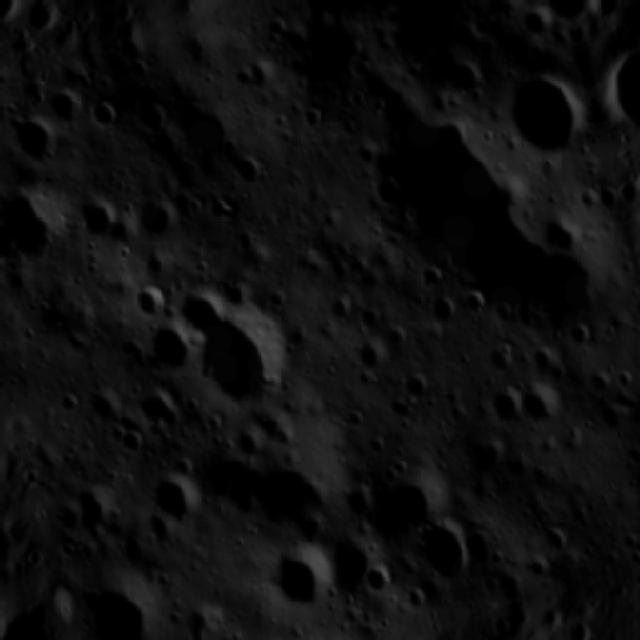crater: (185, 299, 308, 430), (174, 426, 288, 539), (493, 53, 596, 167), (64, 551, 179, 640), (247, 445, 347, 543), (276, 0, 380, 92), (359, 452, 463, 540), (391, 508, 486, 598), (0, 176, 78, 279), (253, 530, 336, 625), (163, 80, 242, 160), (143, 451, 211, 535), (310, 526, 384, 603), (60, 184, 131, 262), (122, 179, 192, 255), (510, 369, 578, 438), (165, 278, 233, 344), (138, 317, 204, 385), (7, 109, 70, 177), (446, 426, 512, 489), (63, 475, 126, 537), (244, 402, 304, 458), (130, 378, 185, 439), (478, 373, 532, 433), (430, 49, 487, 105), (473, 328, 529, 382), (536, 208, 590, 260), (77, 378, 132, 429), (226, 53, 283, 101), (126, 277, 176, 328), (591, 394, 640, 446), (522, 334, 570, 386), (210, 269, 258, 320), (349, 330, 396, 379), (420, 286, 466, 334), (514, 0, 563, 45), (226, 143, 271, 192), (130, 89, 175, 138), (176, 601, 232, 640), (46, 84, 91, 130), (83, 89, 128, 134), (534, 513, 578, 559), (368, 165, 410, 213), (316, 287, 361, 331), (508, 542, 552, 586), (358, 556, 396, 606), (109, 418, 151, 462), (408, 259, 450, 299), (398, 364, 438, 402), (562, 319, 603, 356), (295, 95, 333, 133), (348, 134, 386, 172), (580, 363, 618, 400), (49, 382, 86, 420), (457, 282, 491, 318), (591, 181, 623, 219), (571, 181, 604, 217), (361, 426, 394, 460), (609, 362, 640, 398), (56, 534, 84, 571), (624, 458, 640, 513)
